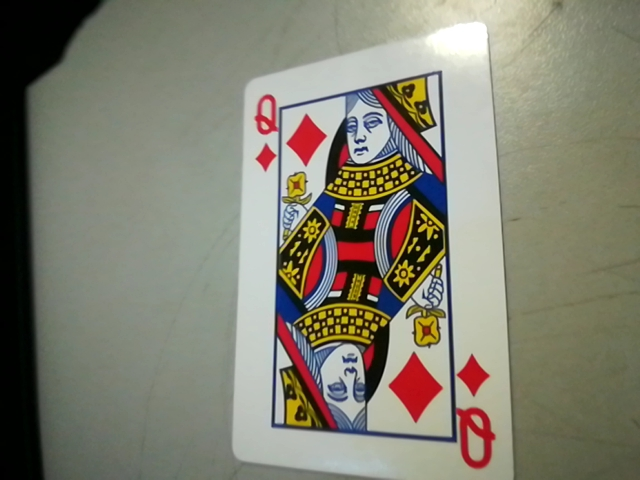fk q: (448, 348, 508, 480)
